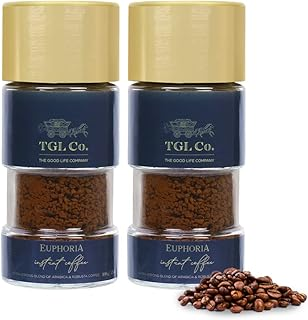Coffee: (1, 1, 307, 320)
